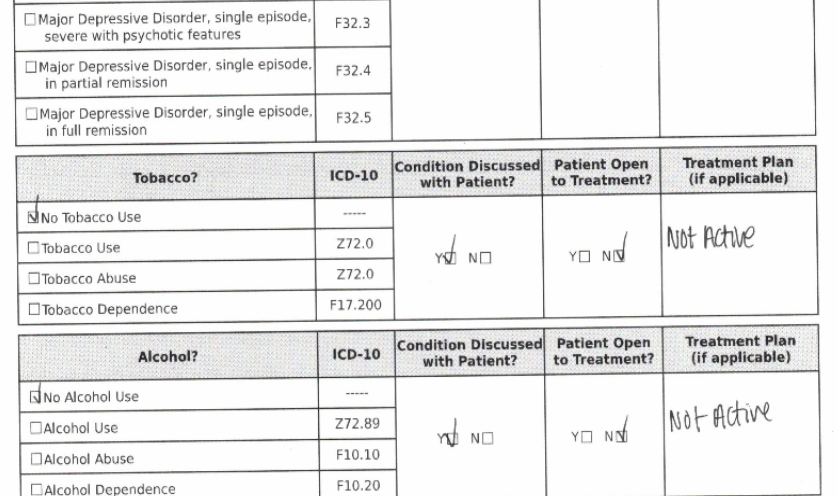checked: (443, 231, 461, 274), (613, 233, 629, 269), (447, 418, 464, 449), (616, 419, 633, 445), (25, 200, 41, 227), (27, 382, 43, 407)
